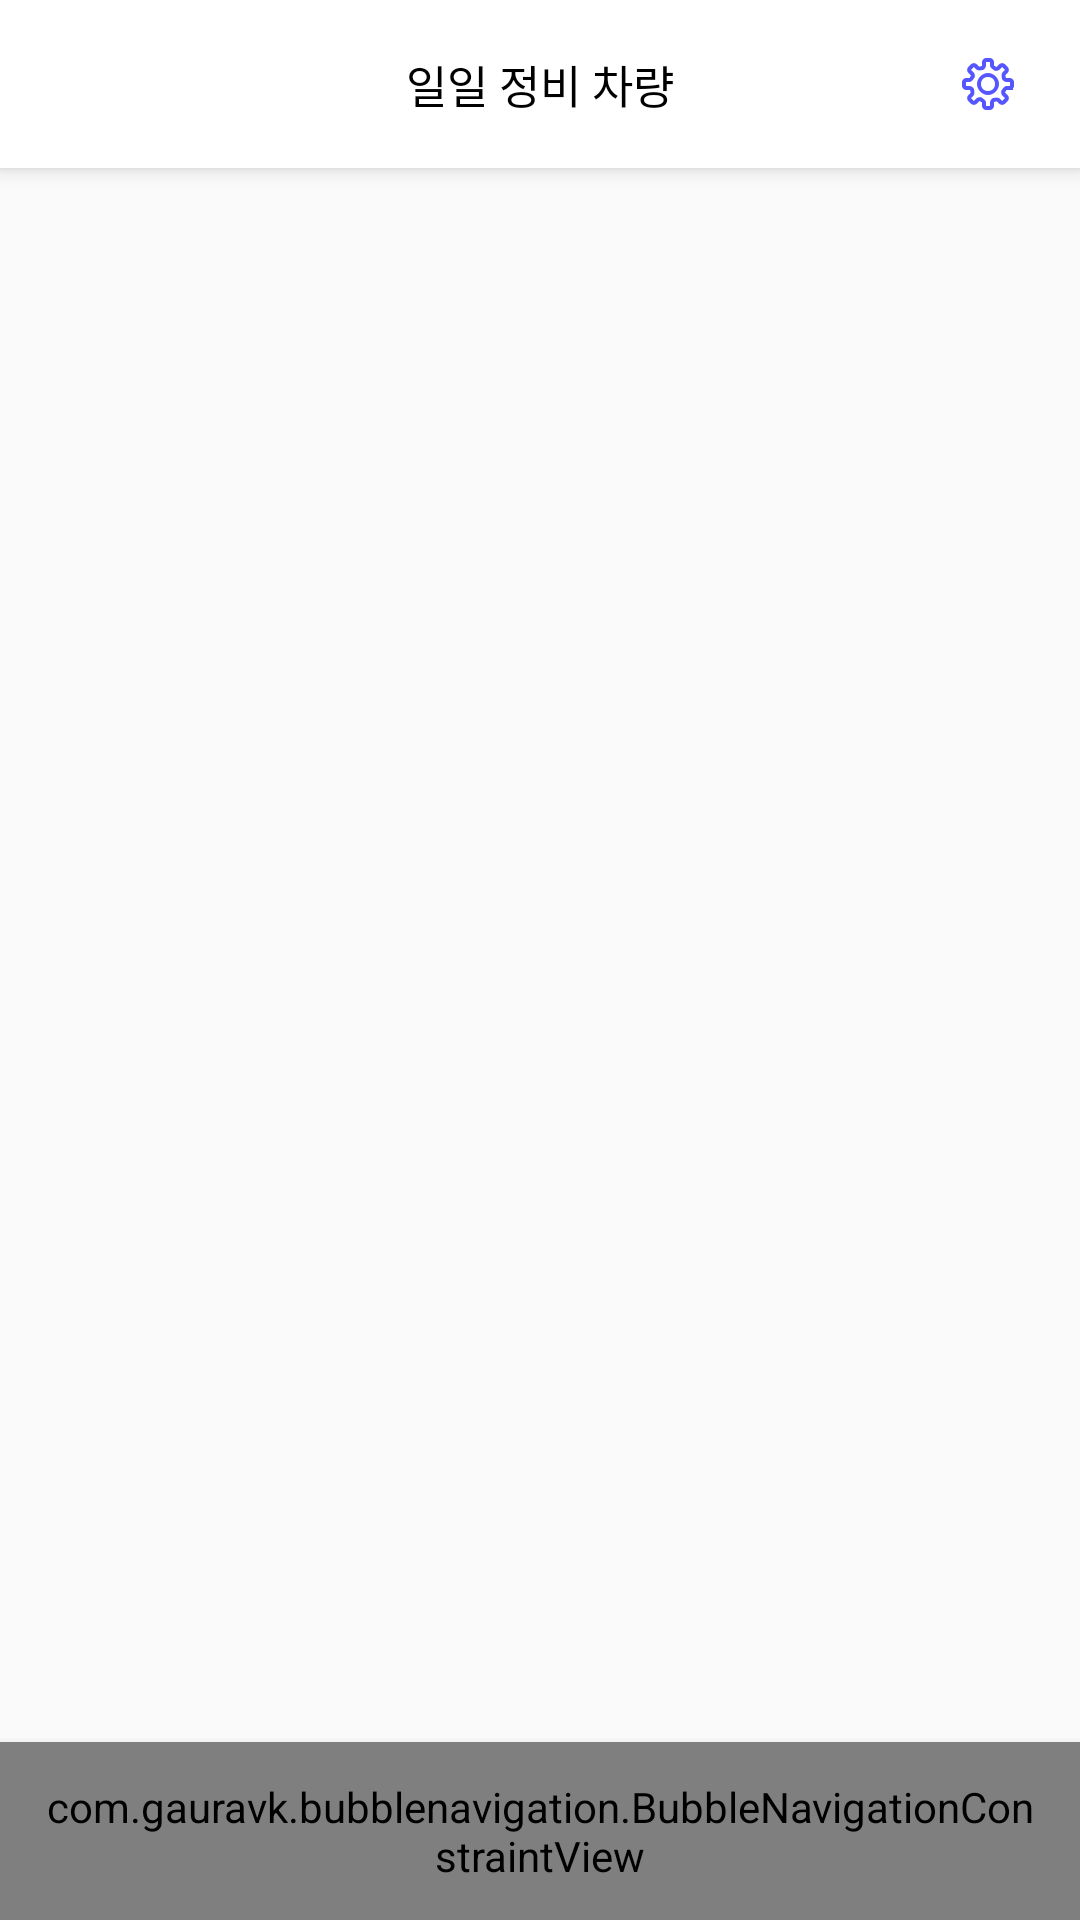

Icon click points for this 1080px×1920px phone screenshot, format (x,y):
setting: (988,84)
